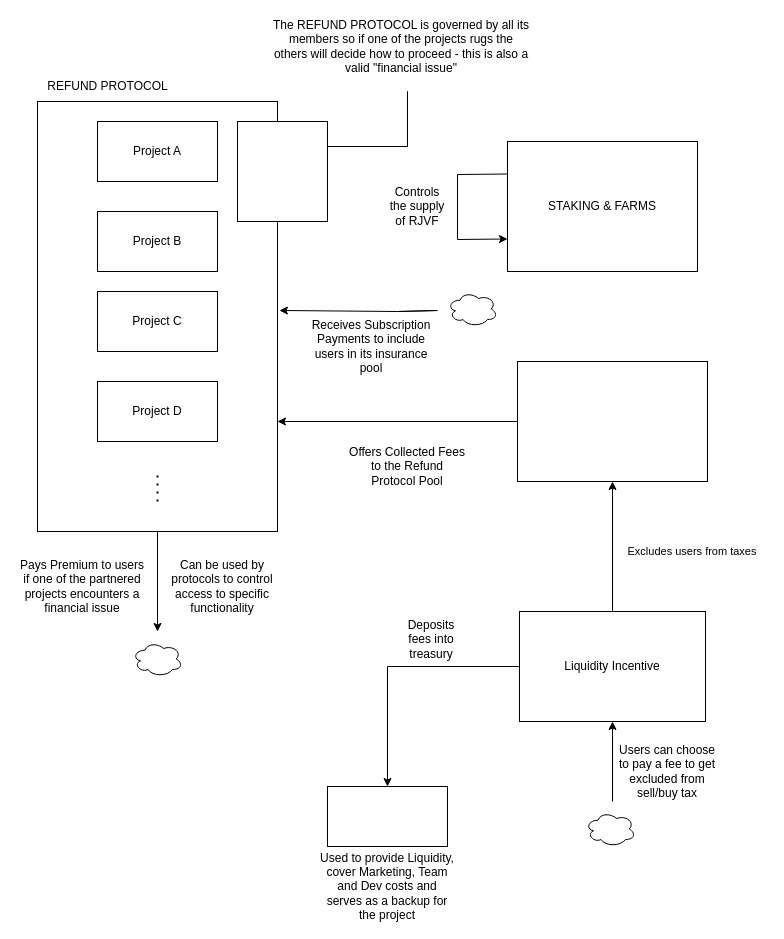
Image size: 784x939. Some labels were removed from this diagram. The box of each missing label's shape, as (x1, y1, x2, y2) in pixels:
RUG RECOVERY: (236, 120, 328, 222)
SWAP: (516, 360, 708, 482)
TREASURY: (326, 786, 448, 846)
